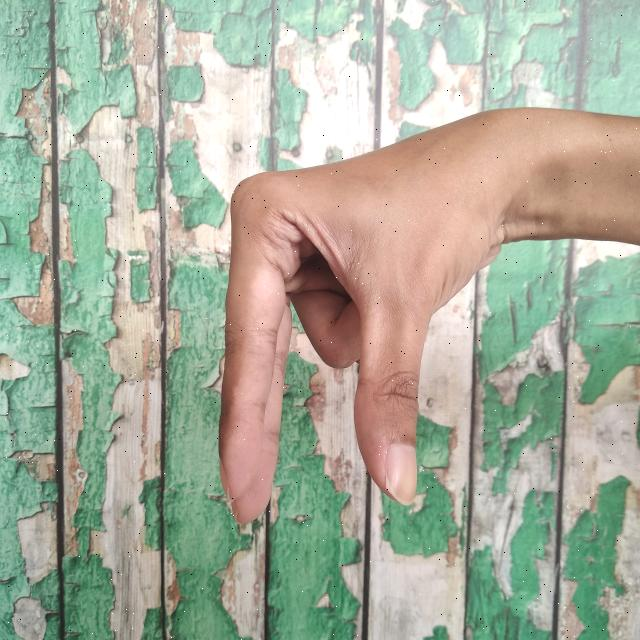Q: (212, 96, 640, 528)
